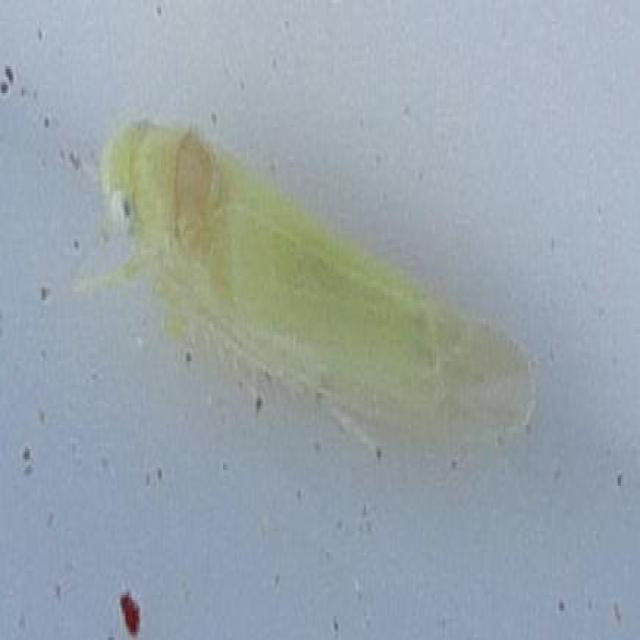green leaf hopper: (95, 122, 532, 441)
